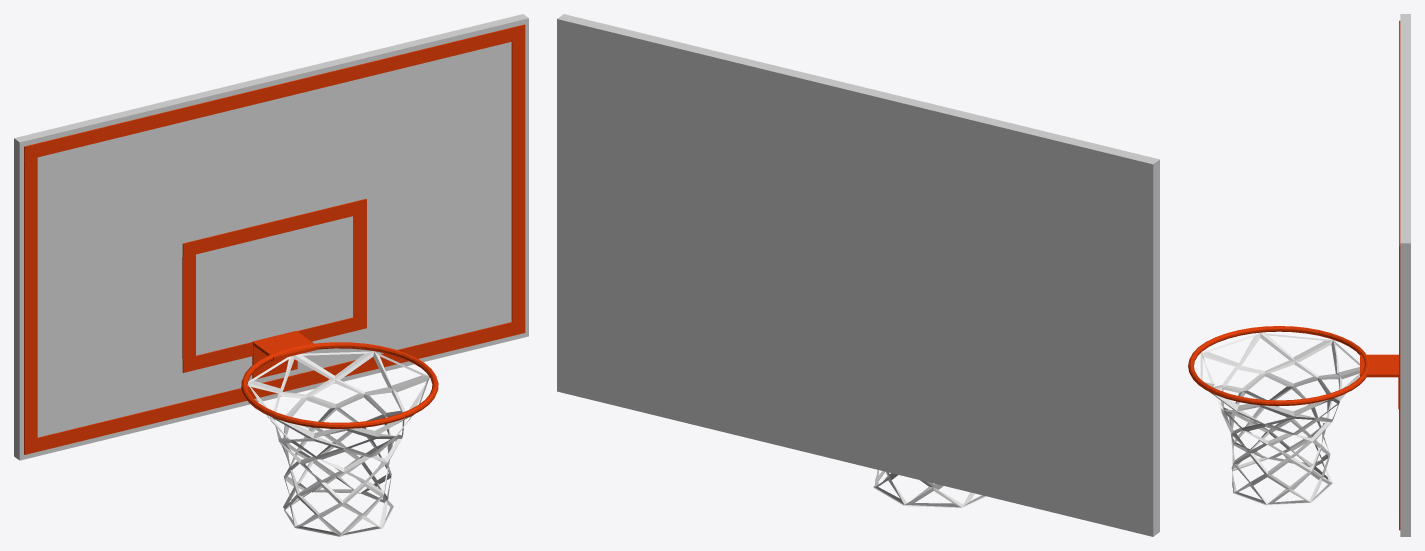
File: hoop.glb
3 renders of one model, left to right at view 1: azimuth 30°, elevation 25°; view 2: azimuth 150°, elevation 25°; view 3: azimuth 270°, elevation 25°, orthographic. The views are drawn at different scales.
Parts seen in each view (by area): view 1: Cube.002, SwishNet, Cube.005, Cube.004, Cube.010, Cube.003, Torus, Cube.007, Cube.008, Cube.006, Cube.009, Cube.001 (+1 smaller); view 2: Cube.002, SwishNet; view 3: SwishNet, Cube.002, Torus, Cube.001, Cube.010, Cube.005.
Boxes of the visible parts, x1,y1,x2,y2 form: Cube.002: (14,14,528,460); SwishNet: (248,351,429,536); Cube.005: (24,24,525,160); Cube.004: (24,319,525,454); Cube.010: (511,38,525,322); Cube.003: (24,157,37,441); Torus: (241,342,438,428); Cube.007: (182,199,366,257); Cube.008: (182,315,366,372); Cube.006: (182,254,195,359); Cube.009: (353,213,366,317); Cube.001: (253,331,318,360); Cube.002: (557,14,1159,536); SwishNet: (873,470,987,507); SwishNet: (1200,333,1359,505); Cube.002: (1400,14,1410,536); Torus: (1188,326,1369,406); Cube.001: (1360,354,1398,377); Cube.010: (1399,258,1400,517); Cube.005: (1399,20,1400,258).
Bounding box in the file's own units: 0.923 × 0.67 × 0.3791.
